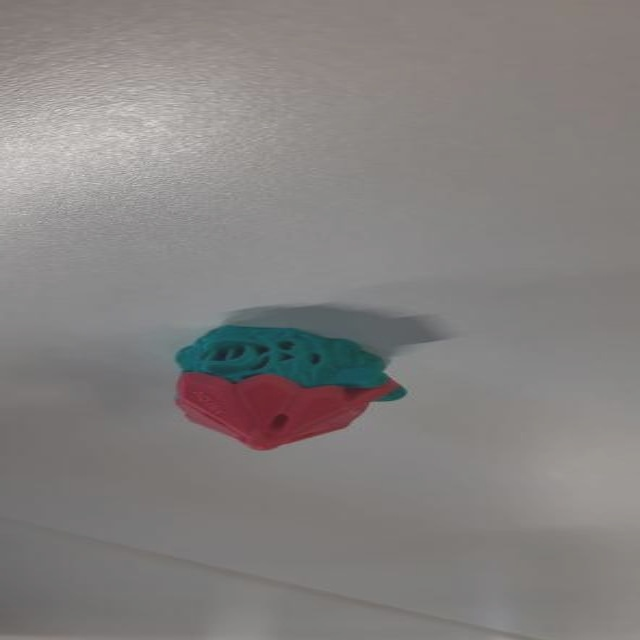House: (168, 321, 409, 454)
